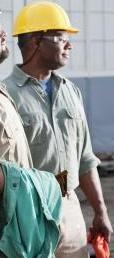hard-hat: (0, 21, 44, 80)
ppe-suit: (0, 63, 101, 257)
vest: (0, 99, 57, 257)
